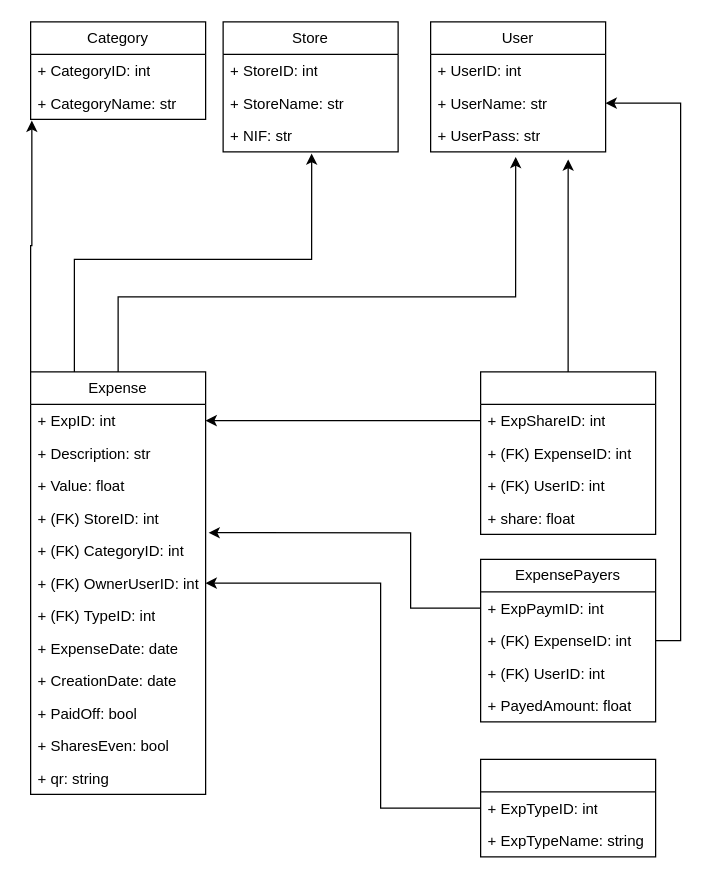
This 713x883 diagram has some shape labels left out. The box of each missing label's shape, as (x1, y1, x2, y2) in pixels:
ExpenseShares: (479, 371, 656, 534)
ExpenseType: (479, 758, 656, 857)
